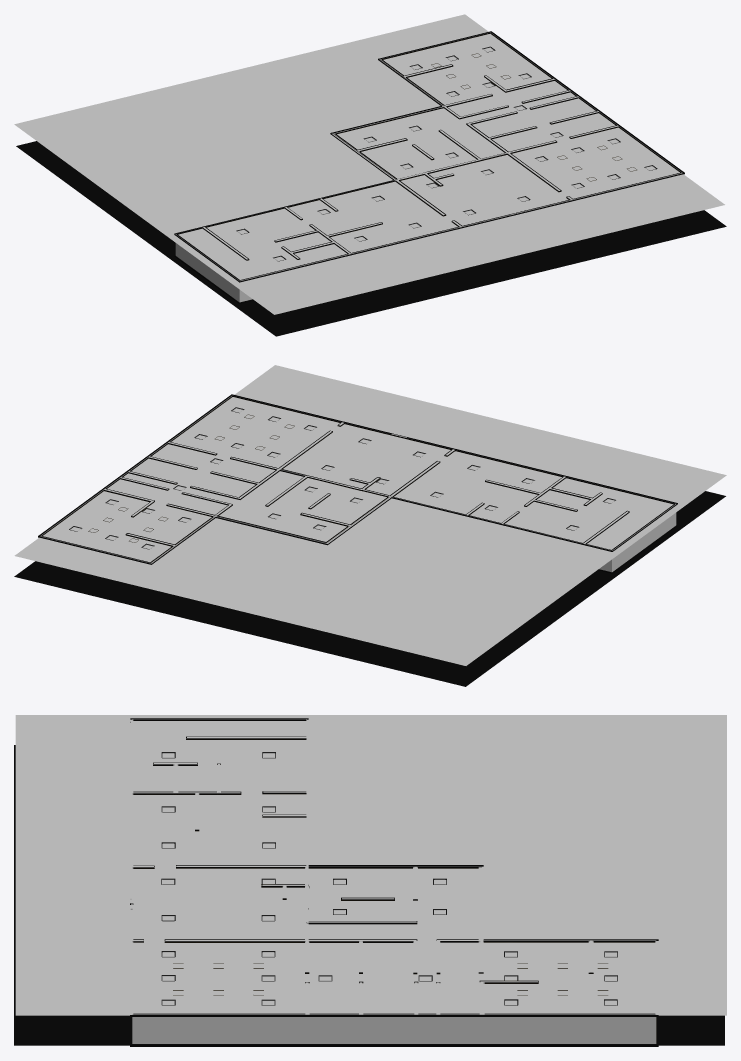
File: backrooms.obj
3 renders of one model, top to bottom at view 1: azimuth 30°, elevation 25°; view 2: azimuth 150°, elevation 25°; view 3: azimuth 270°, elevation 25°, orthographic. The views are drawn at different scales.
Parts seen in each view (by area): view 1: Object_28, Object_8, Object_31, Object_34, Object_22, Object_20; view 2: Object_28, Object_8, Object_31, Object_34, Object_22, Object_20; view 3: Object_28, Object_34, Object_31, Object_8, Object_22, Object_20.
Part boxes in pixels (left/top/right/bottom): Object_28: left=14, top=14, right=724, bottom=314; Object_8: left=16, top=141, right=726, bottom=336; Object_31: left=174, top=31, right=684, bottom=303; Object_34: left=175, top=32, right=682, bottom=302; Object_22: left=236, top=46, right=657, bottom=261; Object_20: left=237, top=47, right=655, bottom=261; Object_28: left=14, top=365, right=726, bottom=665; Object_8: left=14, top=491, right=725, bottom=686; Object_31: left=38, top=394, right=677, bottom=573; Object_34: left=40, top=395, right=676, bottom=572; Object_22: left=69, top=407, right=615, bottom=549; Object_20: left=70, top=408, right=614, bottom=549; Object_28: left=15, top=715, right=726, bottom=1015; Object_34: left=130, top=719, right=656, bottom=1043; Object_31: left=130, top=718, right=658, bottom=1046; Object_8: left=14, top=745, right=724, bottom=1045; Object_22: left=161, top=752, right=617, bottom=1005; Object_20: left=163, top=753, right=616, bottom=1005.
Bounding box in the file's own units: 62.25 × 3.07 × 62.2.
